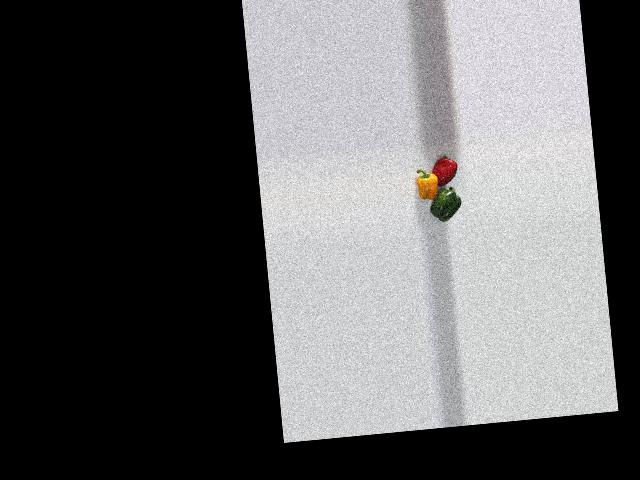bell_pepper: (413, 167, 443, 201)
